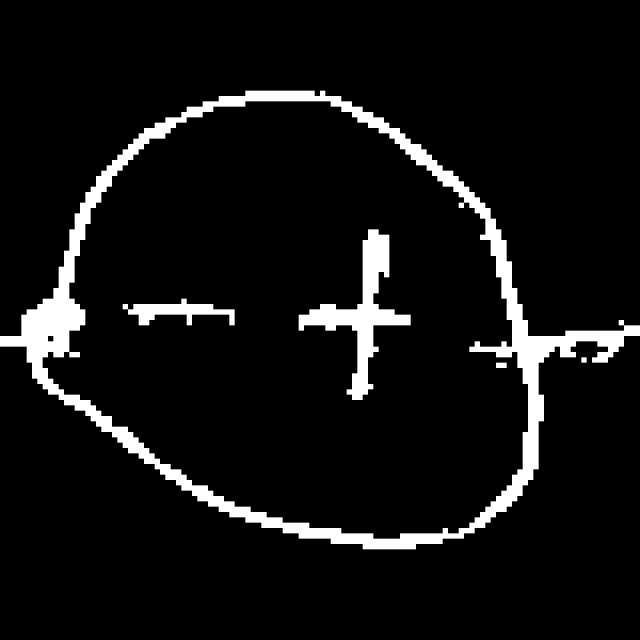voltage_source: (26, 80, 551, 563)
